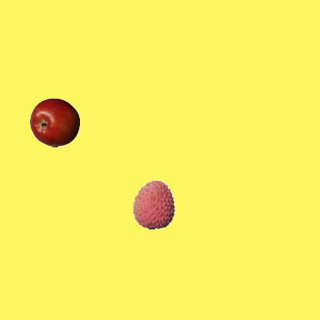Apple Braeburn: (29, 97, 79, 147)
Lychee: (128, 179, 178, 229)
